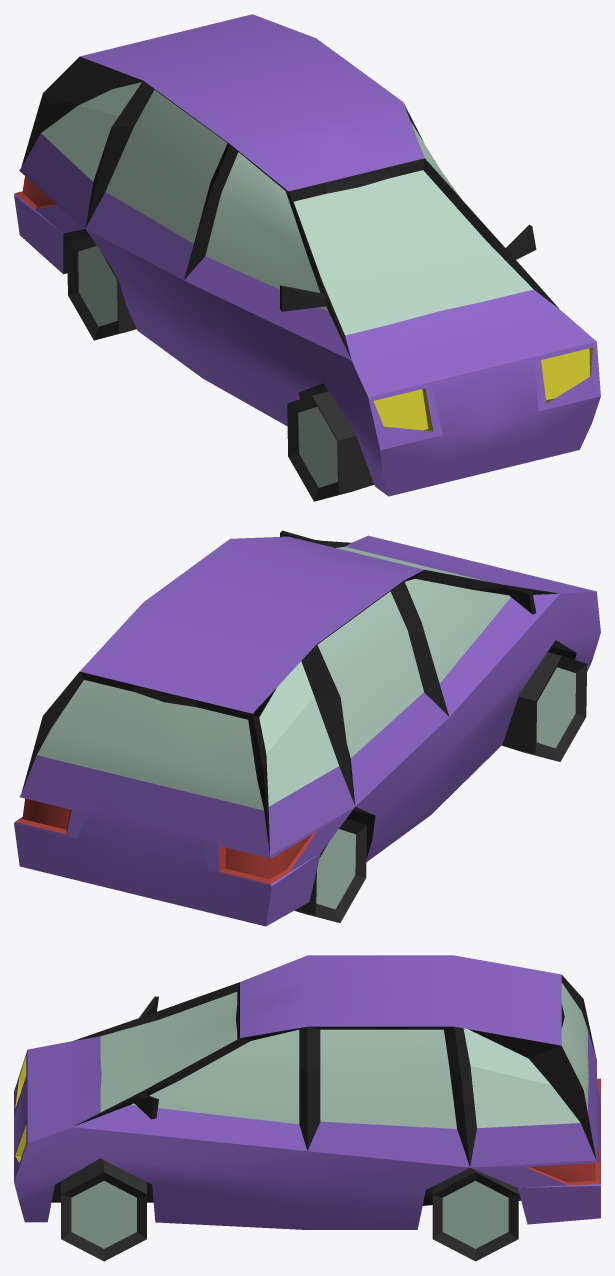
The model's file is purple1.fbx.
The picture shows the model from 3 angles, top to bottom: view 1: azimuth 30°, elevation 25°; view 2: azimuth 150°, elevation 25°; view 3: azimuth 270°, elevation 25°; orthographic projection. The views are drawn at different scales.
Parts seen in each view (by area): view 1: carBox1; view 2: carBox1; view 3: carBox1.
Part boxes in pixels (box(x1,y1,x2,y2)): carBox1: box(14, 14, 600, 501); carBox1: box(14, 530, 600, 926); carBox1: box(14, 955, 600, 1261).
Size of the model in its own units: 97.54 by 89.9 by 218.
